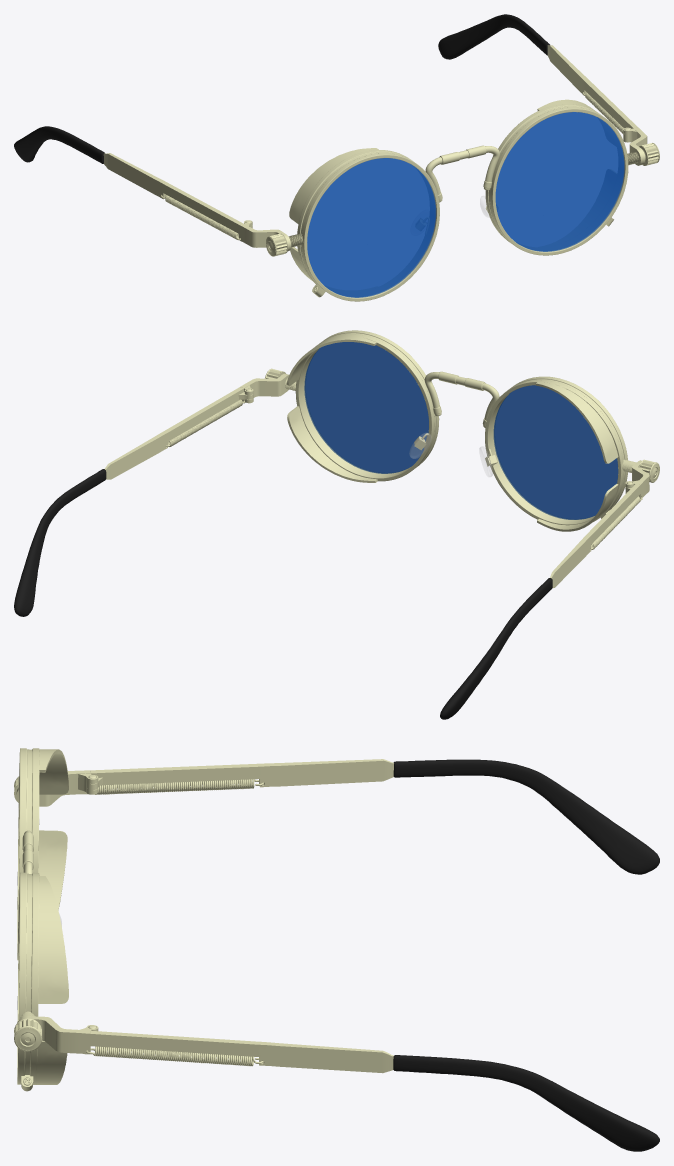
File: glasses-8.glb
The picture shows the model from 3 angles, top to bottom: view 1: azimuth 30°, elevation 25°; view 2: azimuth 150°, elevation 25°; view 3: azimuth 270°, elevation 25°; orthographic projection. The views are drawn at different scales.
Visible parts, largest first — view 1: Object_2, Object_10, Object_8, Object_4, Object_5, Object_9, Object_6, Object_7; view 2: Object_2, Object_10, Object_8, Object_4, Object_5, Object_9, Object_7, Object_6, Object_3; view 3: Object_8, Object_4, Object_5, Object_10, Object_7, Object_6.
Boxes of the visible parts, box(x1,y1,x2,y2) form: Object_2: box(307, 112, 624, 297); Object_10: box(297, 104, 628, 301); Object_8: box(103, 45, 647, 297); Object_4: box(14, 14, 549, 163); Object_5: box(289, 99, 597, 280); Object_9: box(425, 145, 499, 202); Object_6: box(266, 143, 659, 256); Object_7: box(161, 93, 623, 240); Object_2: box(304, 342, 618, 519); Object_10: box(295, 330, 627, 525); Object_8: box(104, 373, 649, 588); Object_4: box(14, 469, 552, 719); Object_5: box(286, 335, 618, 531); Object_9: box(424, 371, 499, 427); Object_7: box(166, 399, 642, 549); Object_6: box(265, 368, 659, 482); Object_3: box(409, 433, 492, 476); Object_8: box(16, 759, 393, 1091); Object_4: box(393, 759, 659, 1151); Object_5: box(36, 749, 68, 1084); Object_10: box(17, 748, 39, 1084); Object_7: box(86, 779, 263, 1066); Object_6: box(14, 776, 42, 1051).
Size of the model in its own units: 3.39 by 0.9978 by 3.03.
